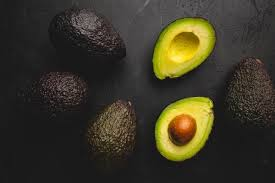avocado: (153, 18, 215, 80), (155, 96, 213, 161)
